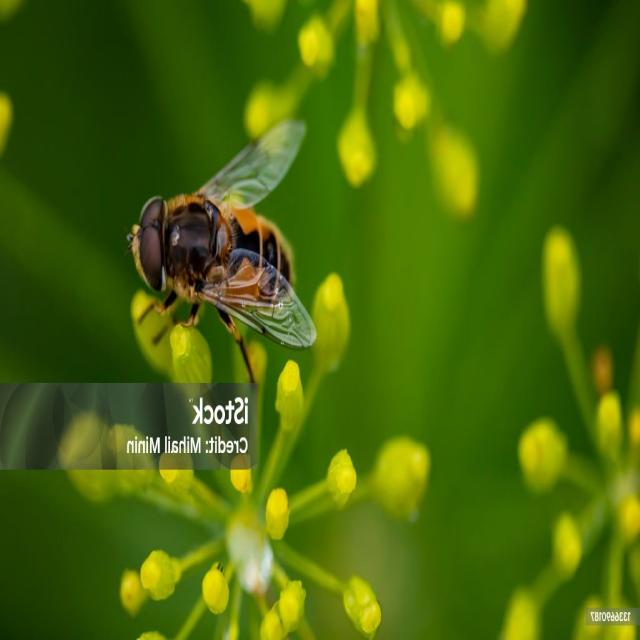hoverfly: (124, 116, 320, 391)
